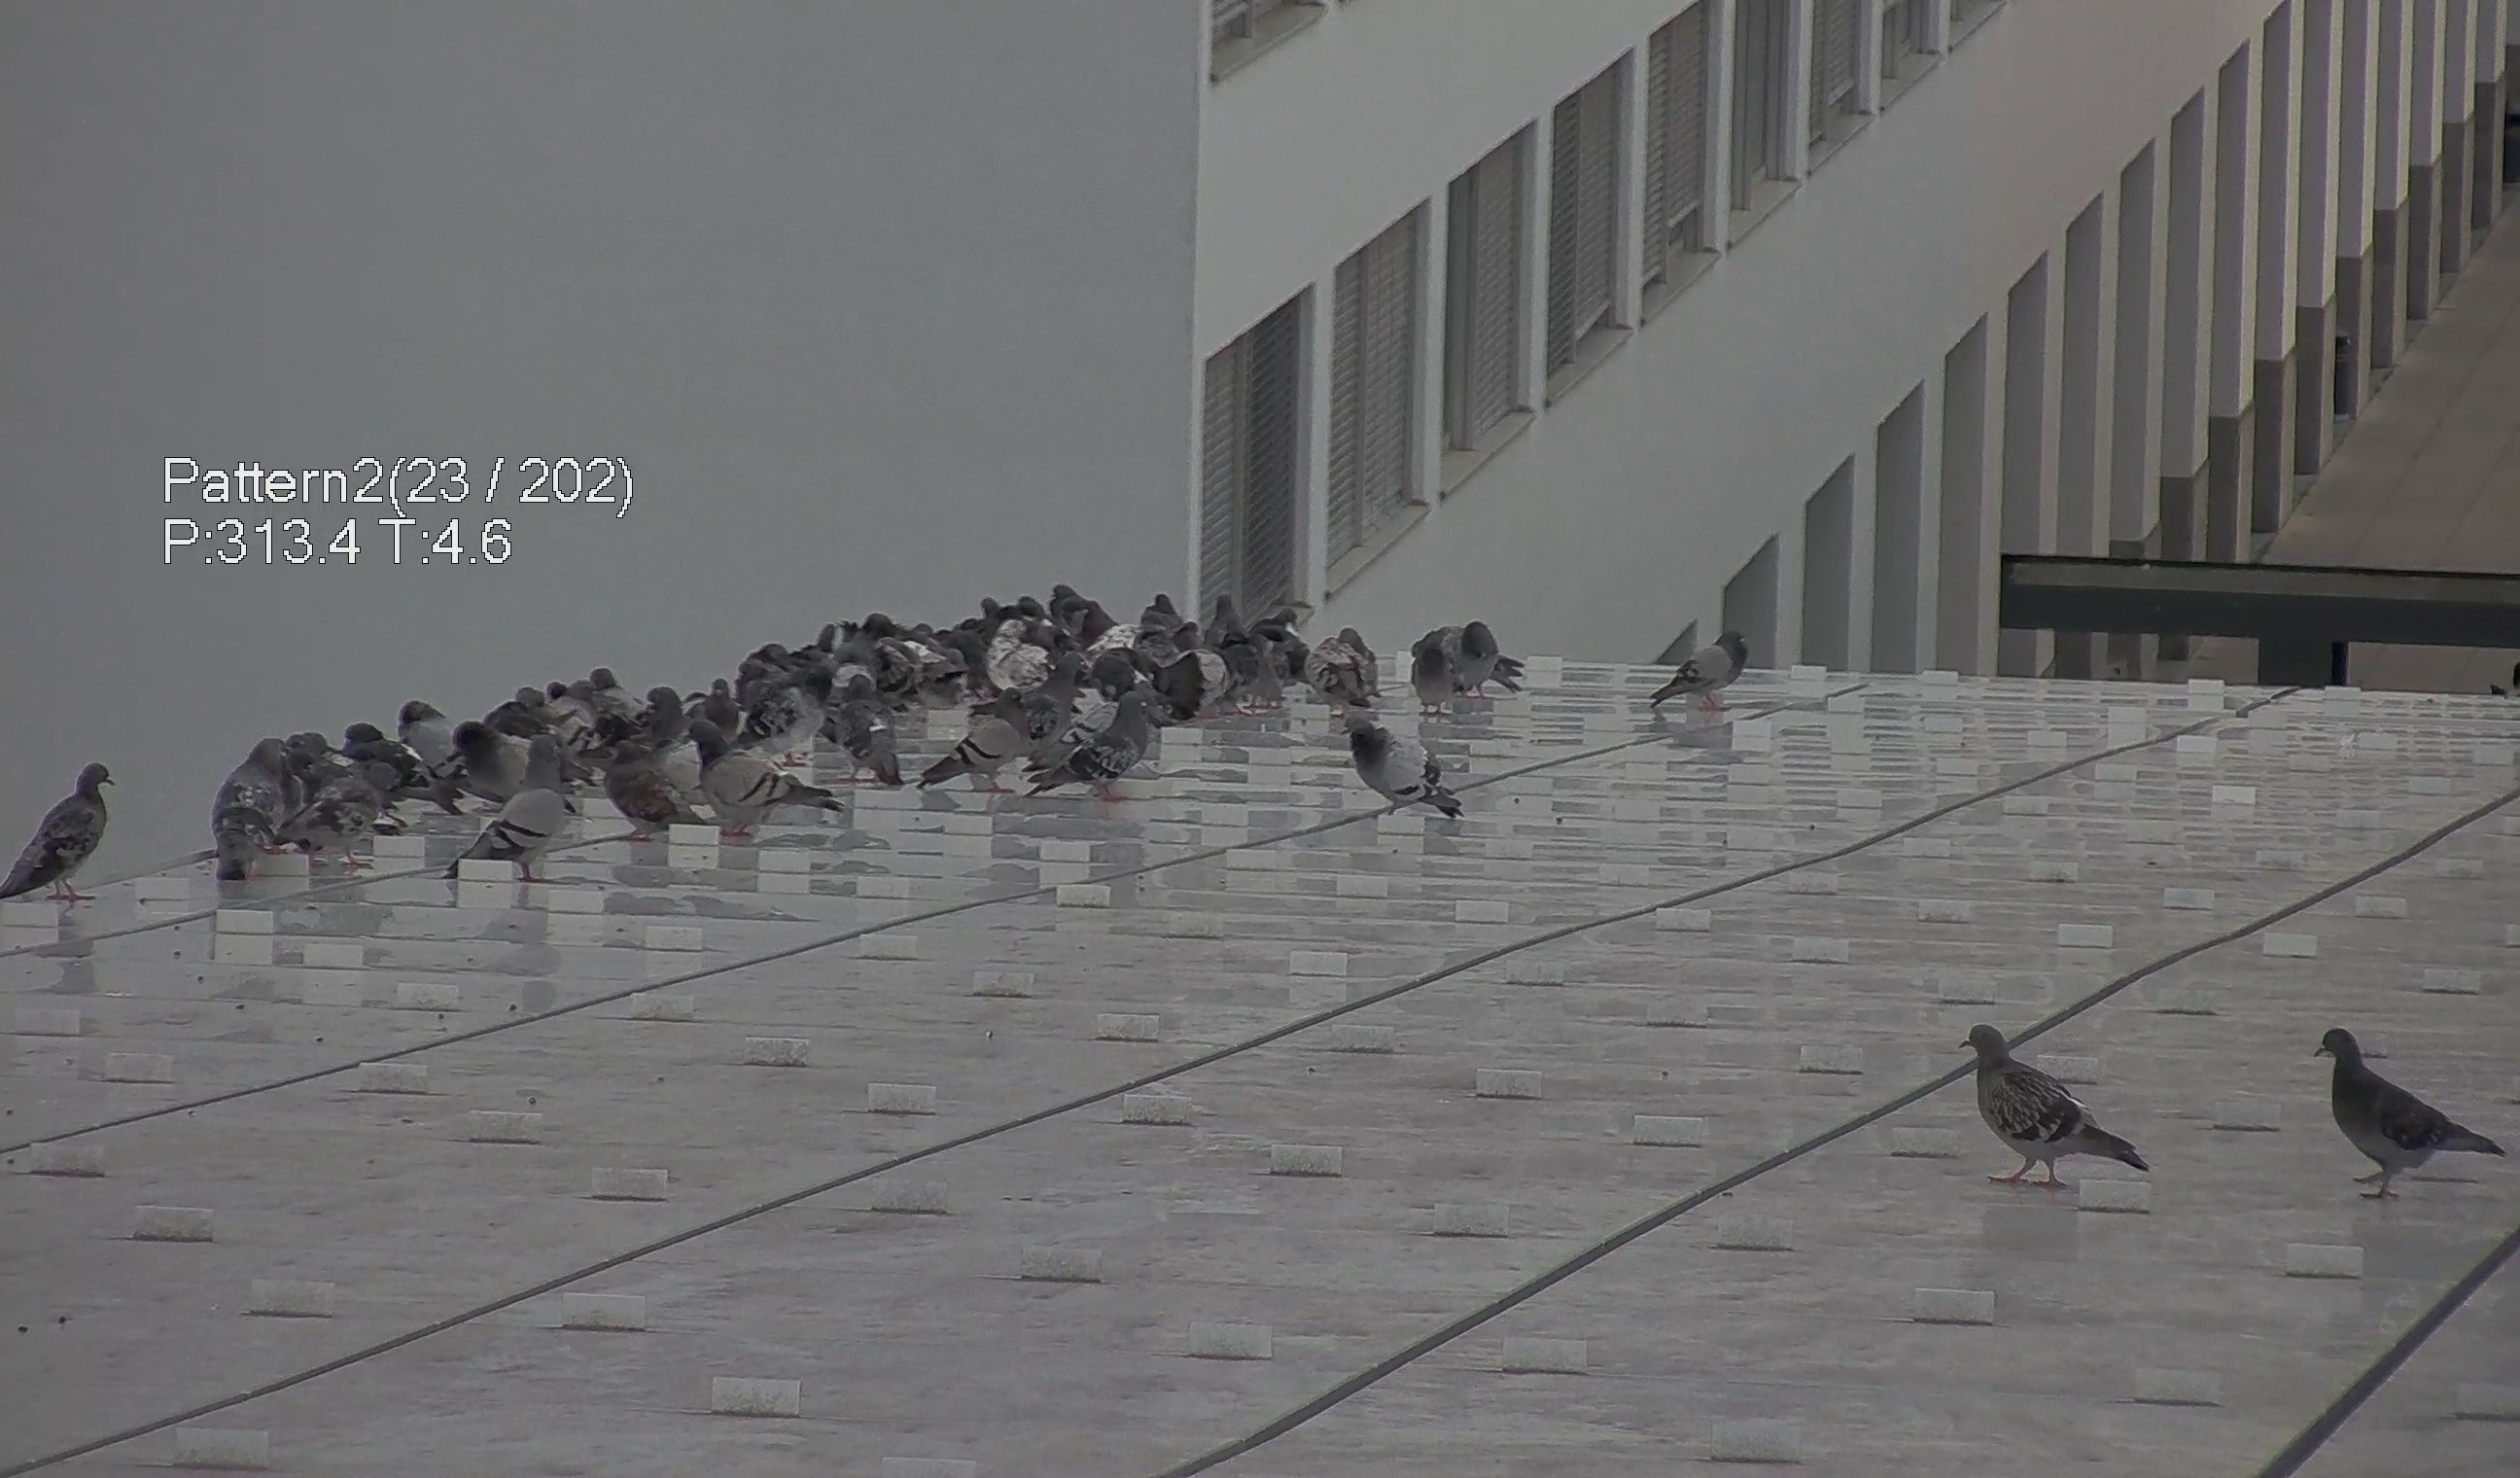Pigeon: (1957, 1017, 2168, 1195), (2318, 1024, 2518, 1204), (2, 750, 127, 920), (686, 720, 844, 843), (452, 730, 568, 889), (1333, 699, 1470, 832), (274, 753, 403, 887), (1023, 686, 1152, 818), (204, 732, 299, 882), (914, 688, 1032, 806), (1410, 616, 1533, 711), (1653, 611, 1760, 709), (1307, 621, 1389, 714)
